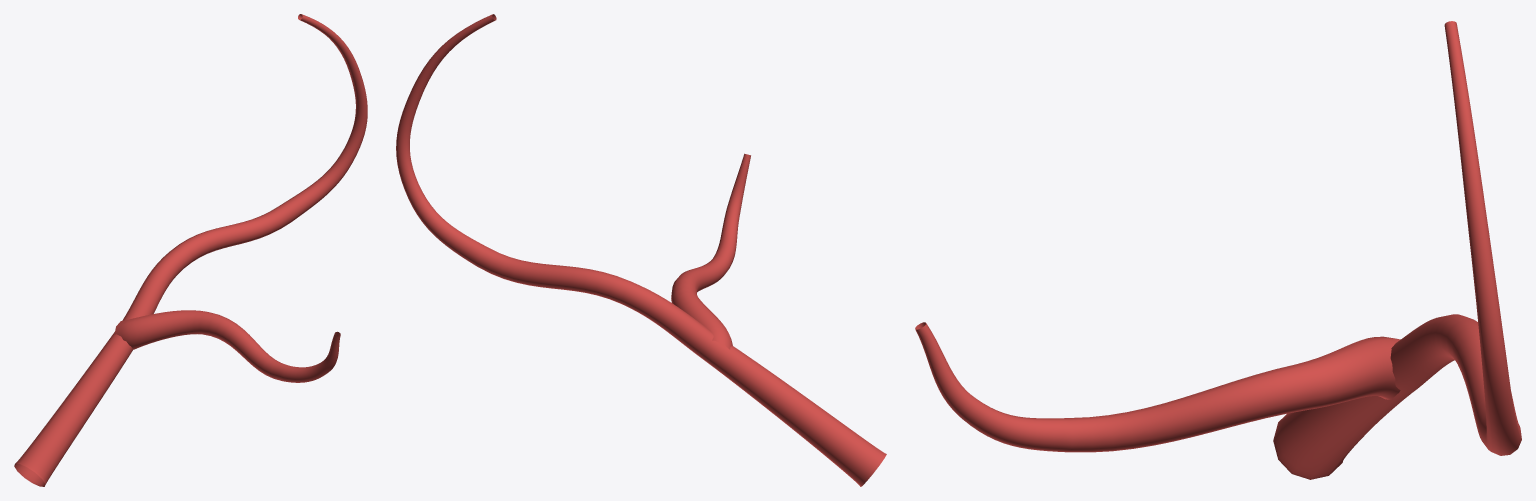
The picture shows the model from 3 angles, left to right: view 1: azimuth 30°, elevation 25°; view 2: azimuth 150°, elevation 25°; view 3: azimuth 270°, elevation 25°; orthographic projection. The views are drawn at different scales.
Visible parts, largest first — view 1: 左侧旋股外侧动脉; view 2: 左侧旋股外侧动脉; view 3: 左侧旋股外侧动脉.
Boxes of the visible parts, x1,y1,x2,y2 form: 左侧旋股外侧动脉: (14,14,367,486); 左侧旋股外侧动脉: (396,14,886,486); 左侧旋股外侧动脉: (915,21,1521,479).
Size of the model in its own units: 0.1049 by 0.0956 by 0.0702.
